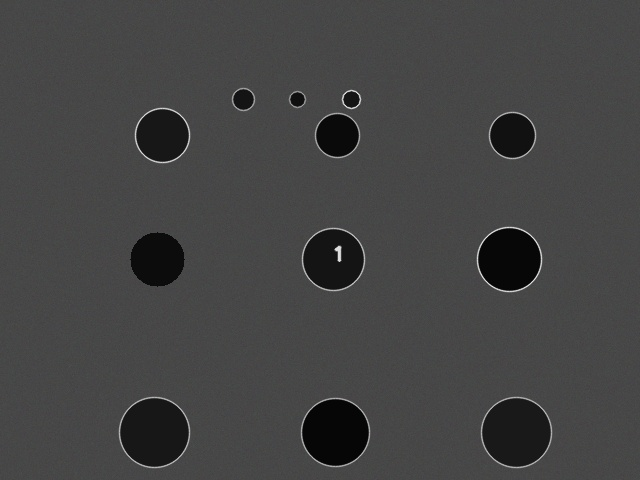hole: (119, 397, 189, 467), (481, 397, 551, 467), (301, 398, 369, 466), (477, 227, 541, 291), (302, 228, 364, 290), (135, 108, 189, 162), (130, 232, 184, 286), (489, 112, 535, 158), (315, 113, 359, 157), (232, 88, 254, 110), (342, 90, 360, 108), (289, 91, 305, 107)
